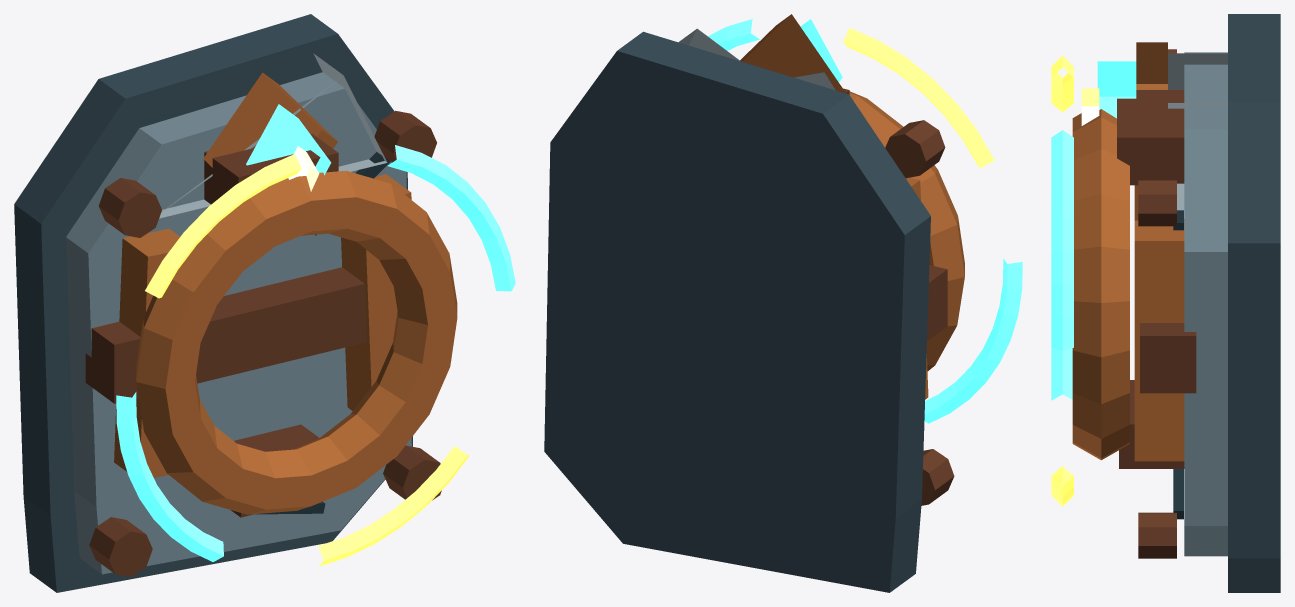
Rendered from Wachtanker_von_Ahnhoehe.glb.
3 renders of one model, left to right at view 1: azimuth 30°, elevation 25°; view 2: azimuth 150°, elevation 25°; view 3: azimuth 270°, elevation 25°, orthographic. The views are drawn at different scales.
Parts seen in each view (by area): view 1: Grapple_Ring, Anchor_Chipped_Face, Anchor_Back_Plate, Brace_Crossbar, Brace_Right, Brace_Left, Target_Halo_Segment_03, Target_Halo_Segment_01, Rune_Bronze_Frame, Target_Halo_Segment_02, Target_Halo_Segment_04, Mounting_Bolt_03 (+7 smaller); view 2: Anchor_Back_Plate, Grapple_Ring, Target_Halo_Segment_03, Target_Halo_Segment_02, Rune_Bronze_Frame, Mounting_Bolt_01, Mounting_Bolt_03, Brace_Crossbar, Anchor_Stone_Crown, Target_Halo_Segment_01, Rune_Crystal; view 3: Anchor_Back_Plate, Anchor_Chipped_Face, Grapple_Ring, Brace_Right, Ring_Hinge_Top, Target_Halo_Segment_01, Brace_Crossbar, Mounting_Bolt_02, Mounting_Bolt_04, Rune_Crystal, Anchor_Stone_Crown, Rune_Bronze_Frame (+6 smaller).
Boxes of the visible parts, box(x1,y1,x2,y2) form: Grapple_Ring: box(136, 170, 457, 514); Anchor_Chipped_Face: box(66, 72, 411, 574); Anchor_Back_Plate: box(14, 14, 412, 592); Brace_Crossbar: box(85, 267, 366, 403); Brace_Right: box(341, 174, 411, 410); Brace_Left: box(114, 228, 179, 477); Target_Halo_Segment_03: box(116, 392, 223, 561); Target_Halo_Segment_01: box(387, 145, 515, 291); Rune_Bronze_Frame: box(203, 72, 337, 167); Target_Halo_Segment_02: box(145, 154, 301, 298); Target_Halo_Segment_04: box(318, 446, 469, 566); Mounting_Bolt_03: box(89, 517, 152, 577); Anchor_Back_Plate: box(544, 31, 930, 592); Grapple_Ring: box(849, 91, 964, 370); Target_Halo_Segment_03: box(924, 258, 1022, 423); Target_Halo_Segment_02: box(843, 28, 994, 167); Rune_Bronze_Frame: box(740, 14, 845, 93); Mounting_Bolt_01: box(885, 120, 945, 178); Mounting_Bolt_03: box(921, 449, 954, 505); Brace_Crossbar: box(927, 265, 947, 340); Anchor_Stone_Crown: box(678, 28, 835, 90); Target_Halo_Segment_01: box(708, 19, 759, 50); Rune_Crystal: box(800, 19, 842, 82); Anchor_Back_Plate: box(1228, 14, 1280, 592); Anchor_Chipped_Face: box(1184, 52, 1227, 556); Grapple_Ring: box(1072, 109, 1129, 460); Brace_Right: box(1134, 220, 1184, 461); Ring_Hinge_Top: box(1117, 90, 1184, 185); Target_Halo_Segment_01: box(1051, 130, 1073, 351); Brace_Crossbar: box(1140, 219, 1196, 393); Mounting_Bolt_02: box(1138, 180, 1176, 226); Mounting_Bolt_04: box(1138, 512, 1176, 558); Rune_Crystal: box(1097, 61, 1136, 118); Anchor_Stone_Crown: box(1168, 53, 1227, 218); Rune_Bronze_Frame: box(1136, 42, 1167, 89).
Size of what is drawn, in the model's own units: 0.6393 by 0.79 by 0.326.
